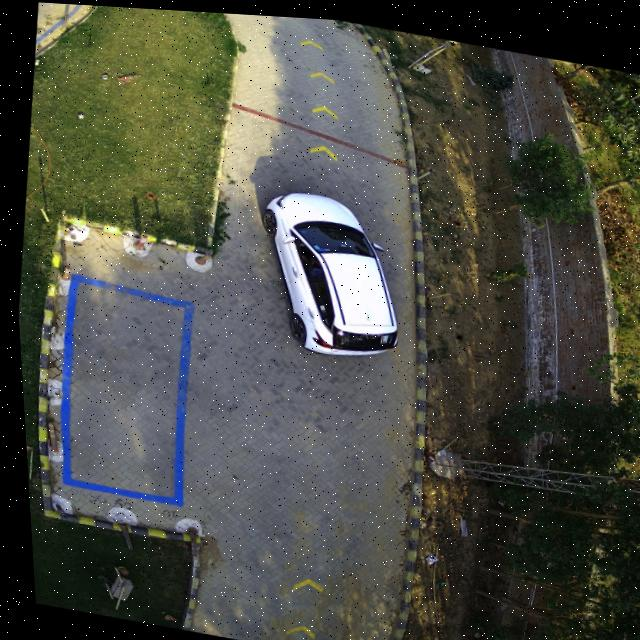car: (260, 188, 393, 351)
